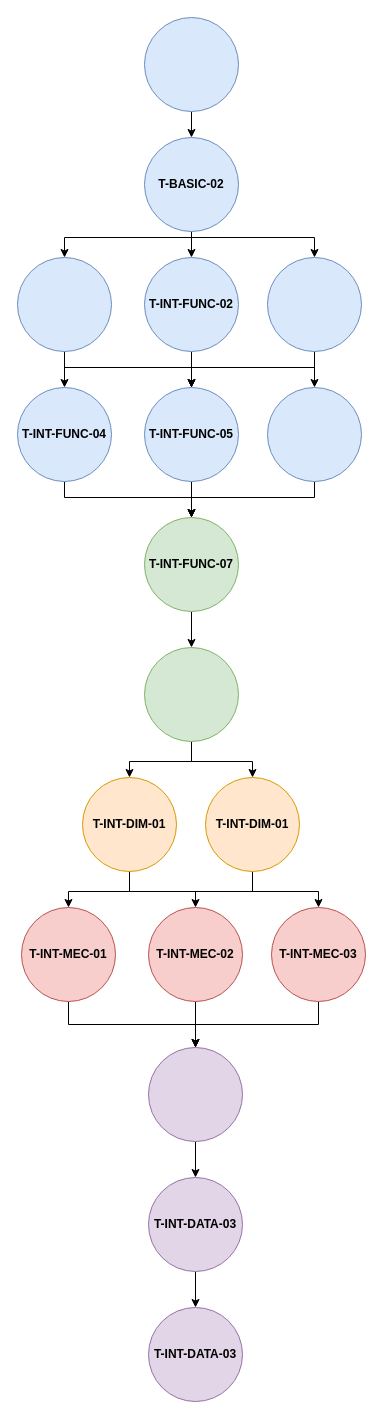
Some shapes in this 383 by 1419 pixel diagram are drawn without their labels. Each missing label, with the centre of its shape:
"T-BASIC-01" goes at point (191, 64).
"T-INT-COM-01" goes at point (191, 694).
"T-INT-DATA-01" goes at point (195, 1094).
"T-INT-FUNC-01" goes at point (64, 304).
"T-INT-FUNC-03" goes at point (314, 304).
"T-INT-FUNC-06" goes at point (314, 434).
